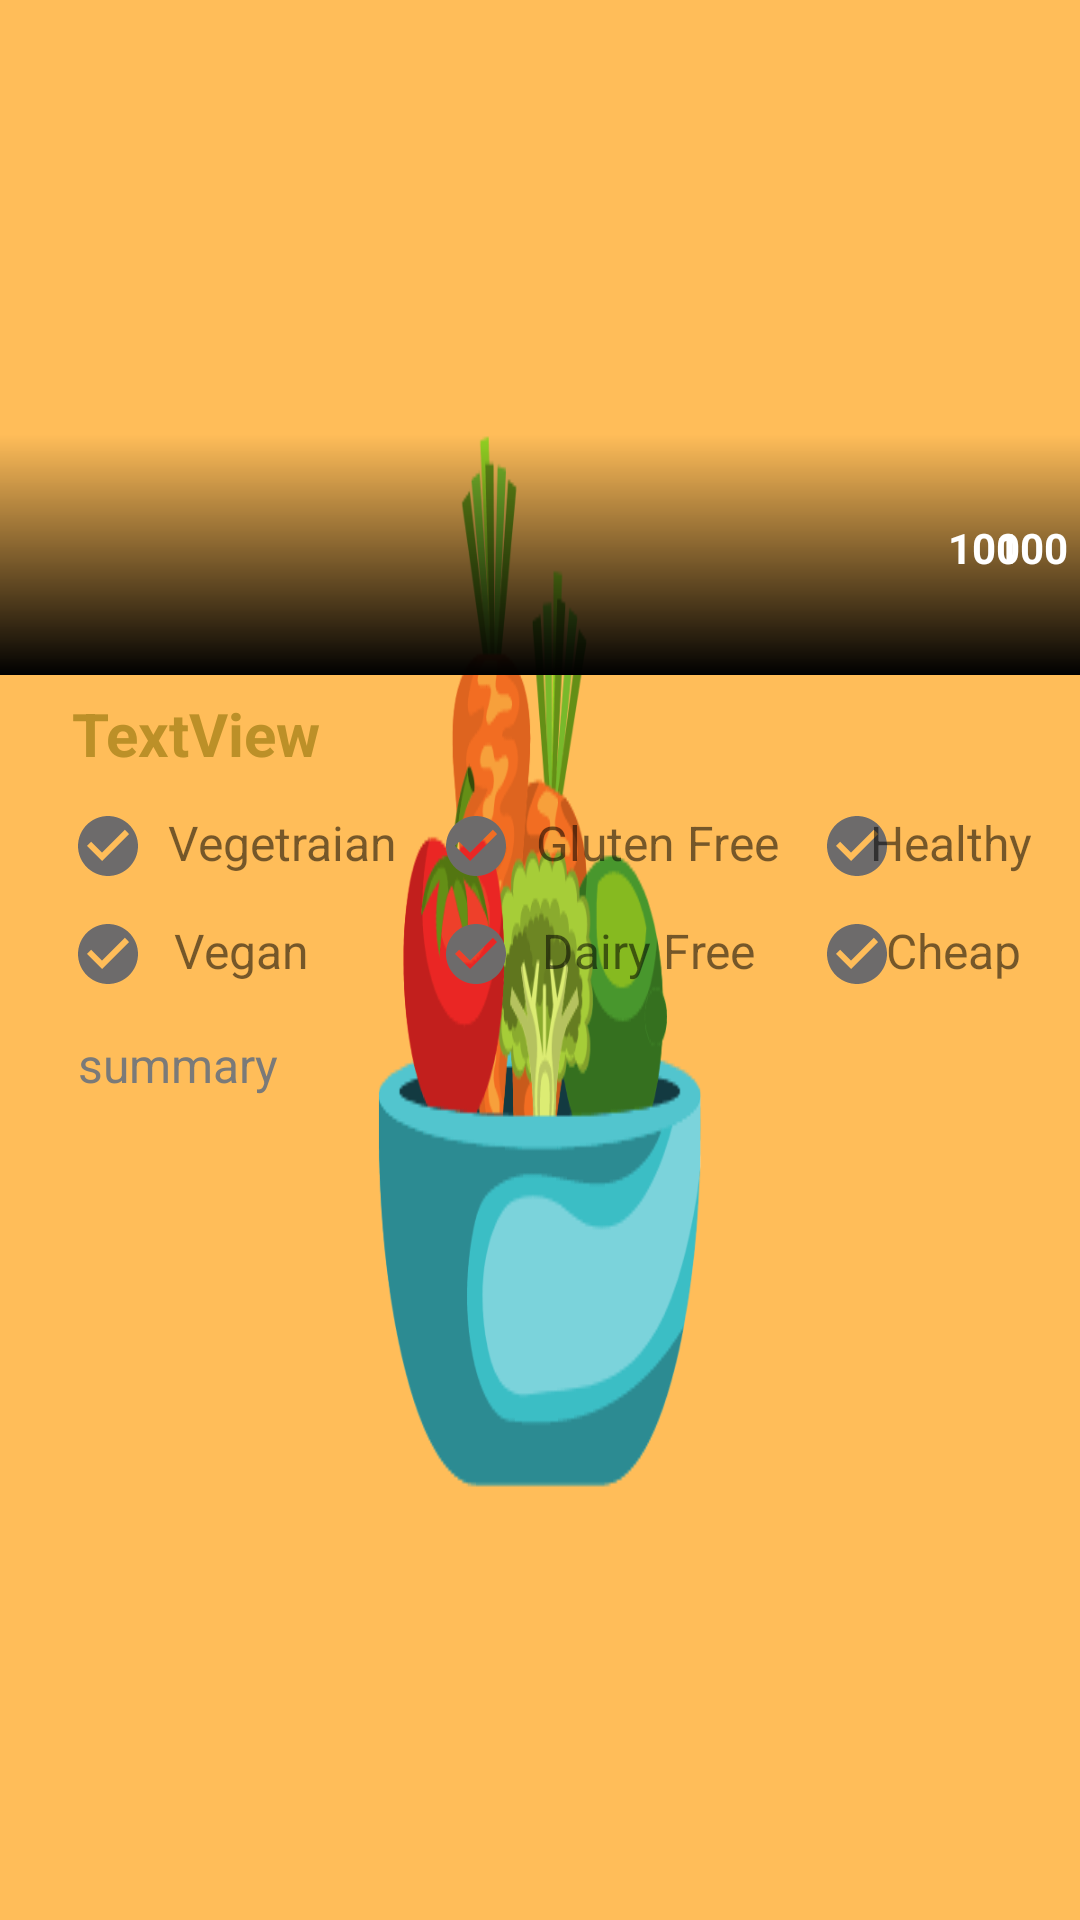

Screen size 1080*1920. Icon name, then its center in pixels as point (x, y):
check circle: point (476, 846), point (108, 846), point (860, 846), point (476, 954), point (108, 954), point (857, 954)
